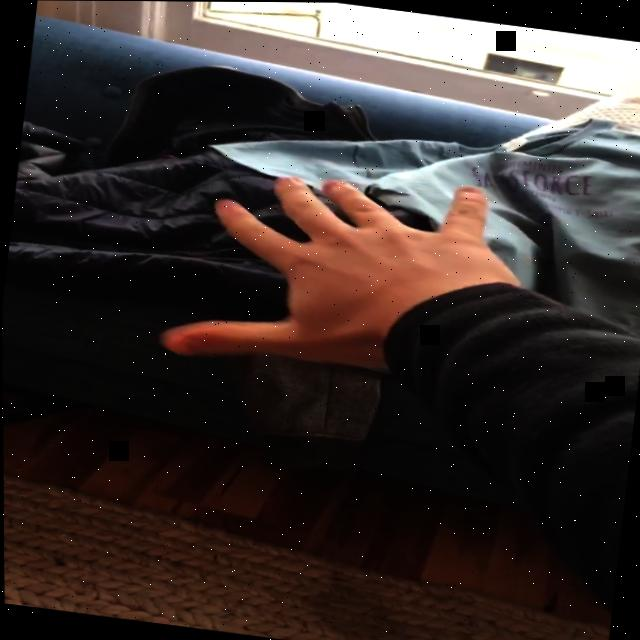Paper: (163, 146, 525, 398)
